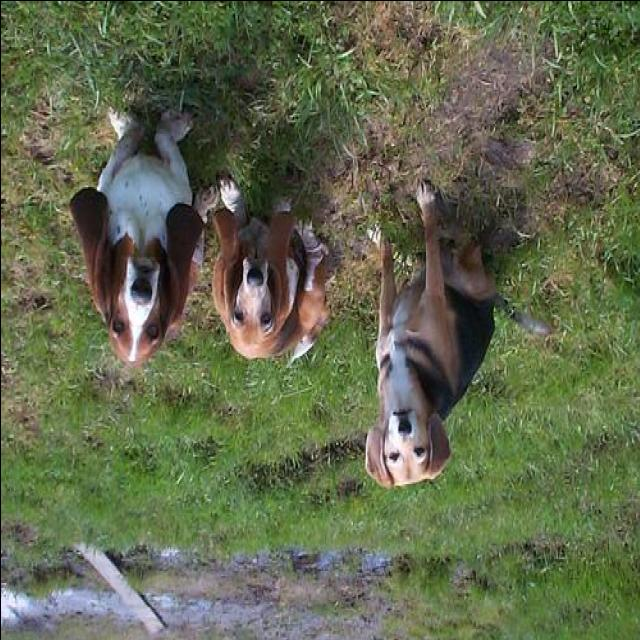beagle: (362, 176, 500, 492)
